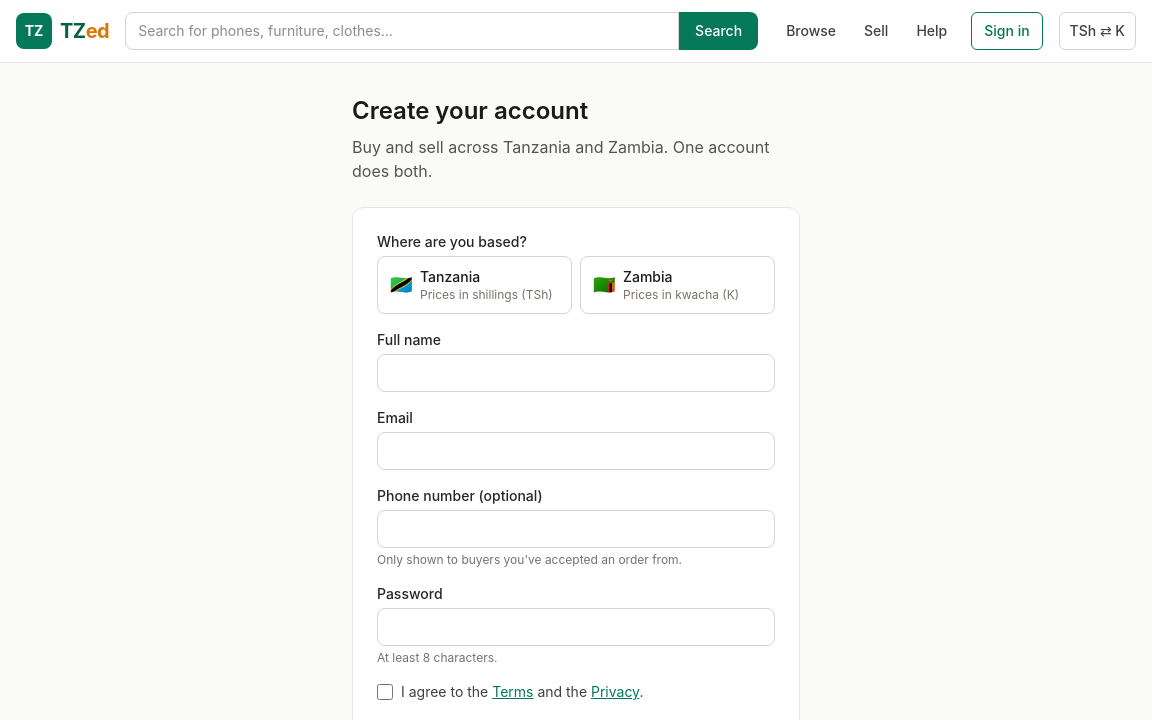
Test: Register › requires a country, consent and a valid phone for that country
This screenshot has width=1152, height=720.
Type "+255712345678" into the field labelled "Phone number (optional)" at [576, 529], box x1=377 y1=510 x2=775 y2=548
(page scrolled)
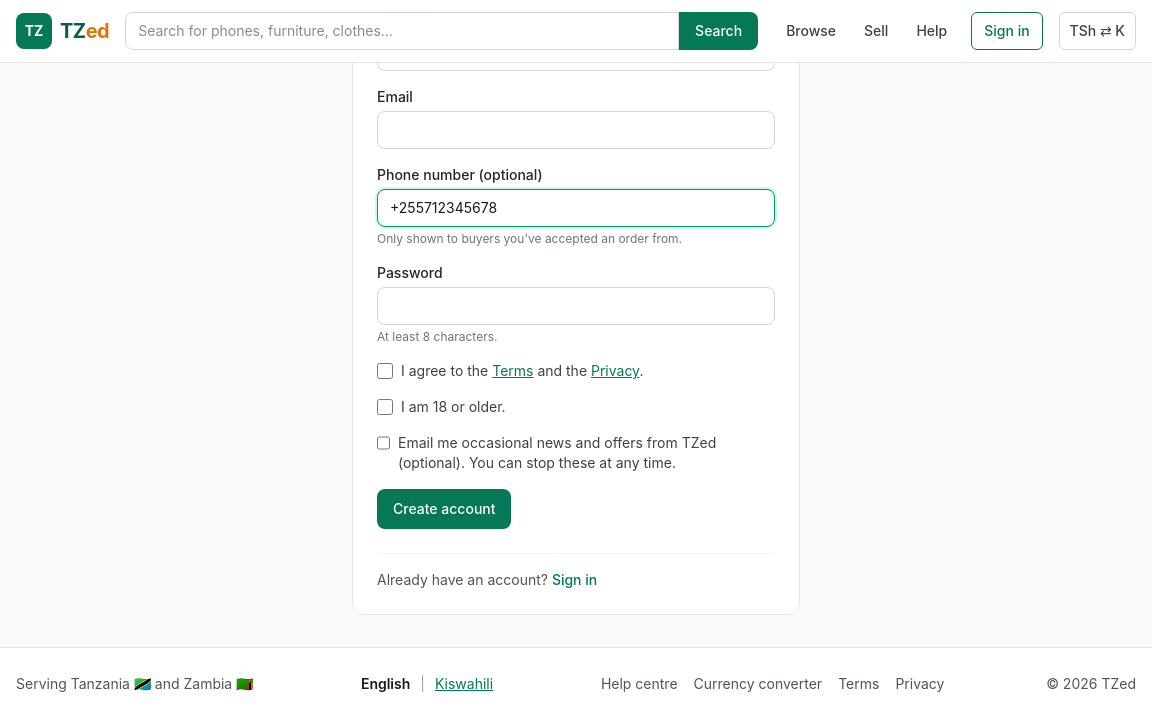
Click the button "Create account" at [444, 509], box x1=377 y1=489 x2=512 y2=529
(page scrolled)
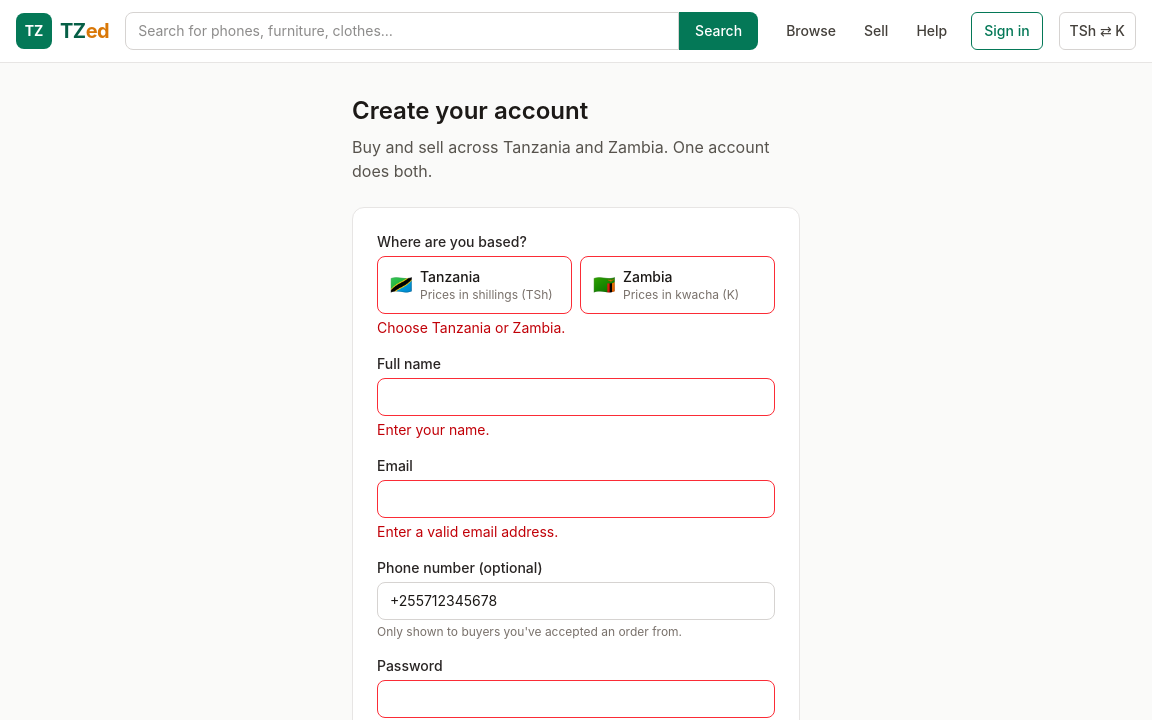
Expected: the text "Choose Tanzania or Zambia." is shown, x1=377 y1=319 x2=565 y2=336
Click the text "Zambia" at [648, 276], box x1=623 y1=268 x2=672 y2=285
(page scrolled)
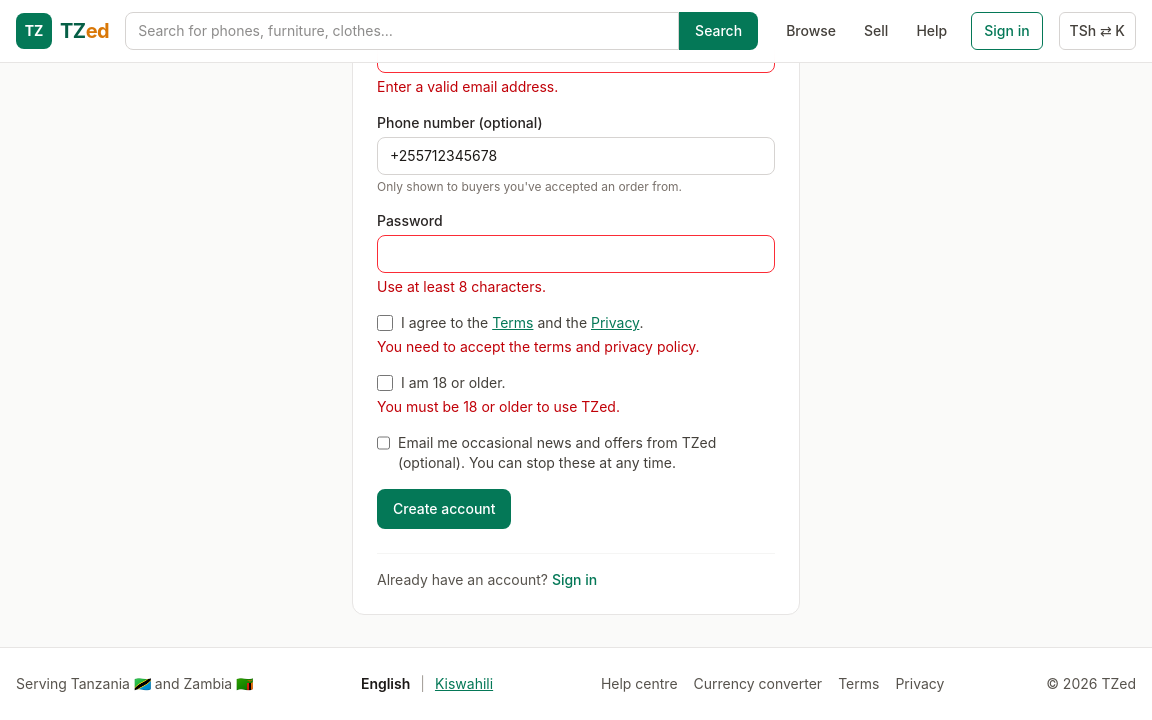
Click the button "Create account" at [444, 509], box x1=377 y1=489 x2=512 y2=529
(page scrolled)
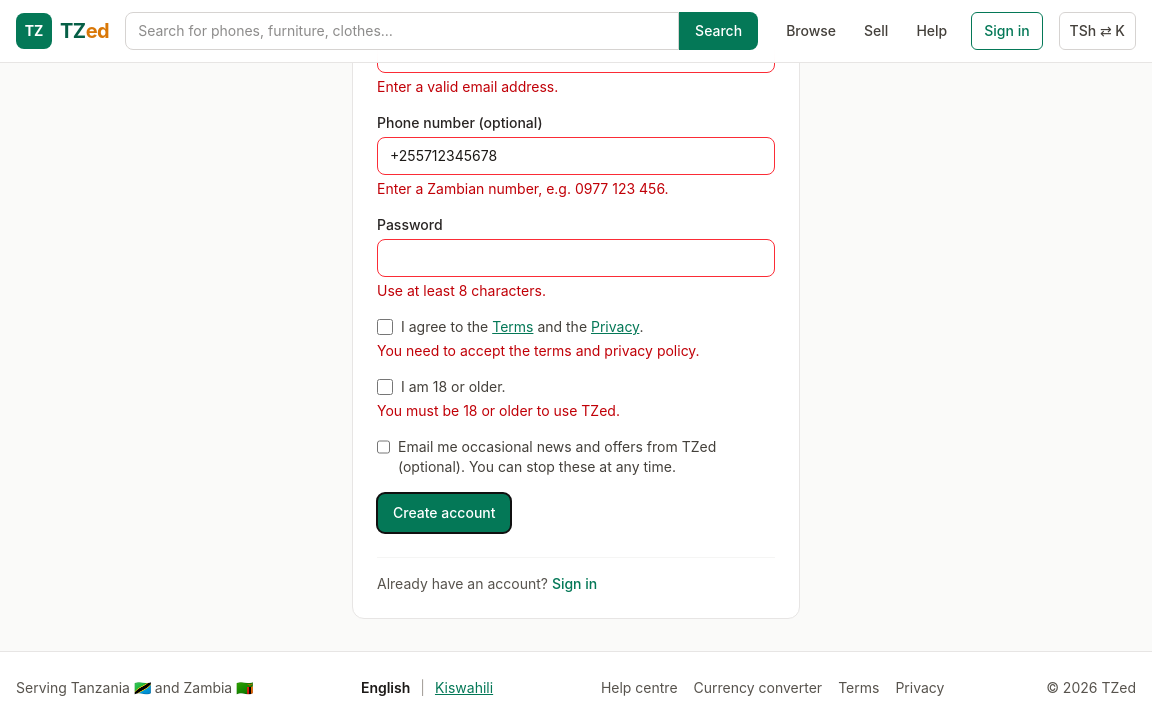
Expected: the text "Enter a Zambian number, e.g. 0977 123 456." is shown, x1=377 y1=180 x2=669 y2=197
